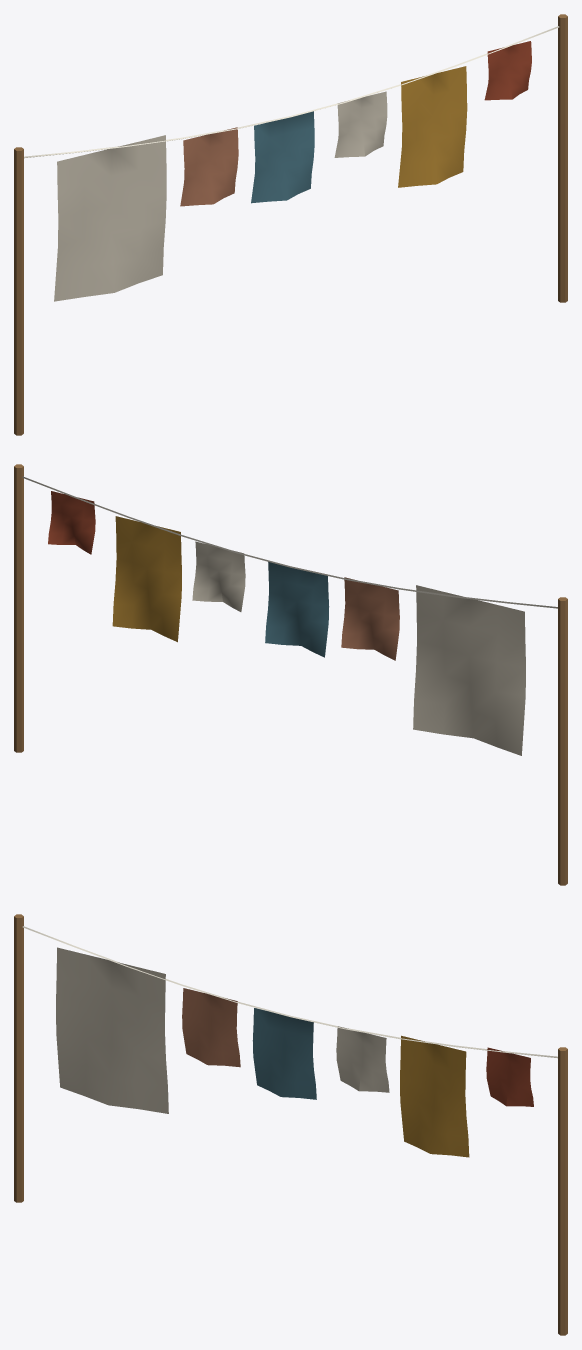
The model's file is laundry_line.glb.
3 views of the same model, one above another, from view 1: azimuth 30°, elevation 25°; view 2: azimuth 150°, elevation 25°; view 3: azimuth 330°, elevation 25° (orthographic).
Parts seen in each view (by area): view 1: laundry_line_mesh; view 2: laundry_line_mesh; view 3: laundry_line_mesh.
Part boxes in pixels (x1,y1,x2,y2): laundry_line_mesh: [14, 14, 567, 435]; laundry_line_mesh: [14, 464, 567, 885]; laundry_line_mesh: [14, 914, 567, 1335].
Size of the model in its own units: 5.07 by 2.5 by 0.0988.
